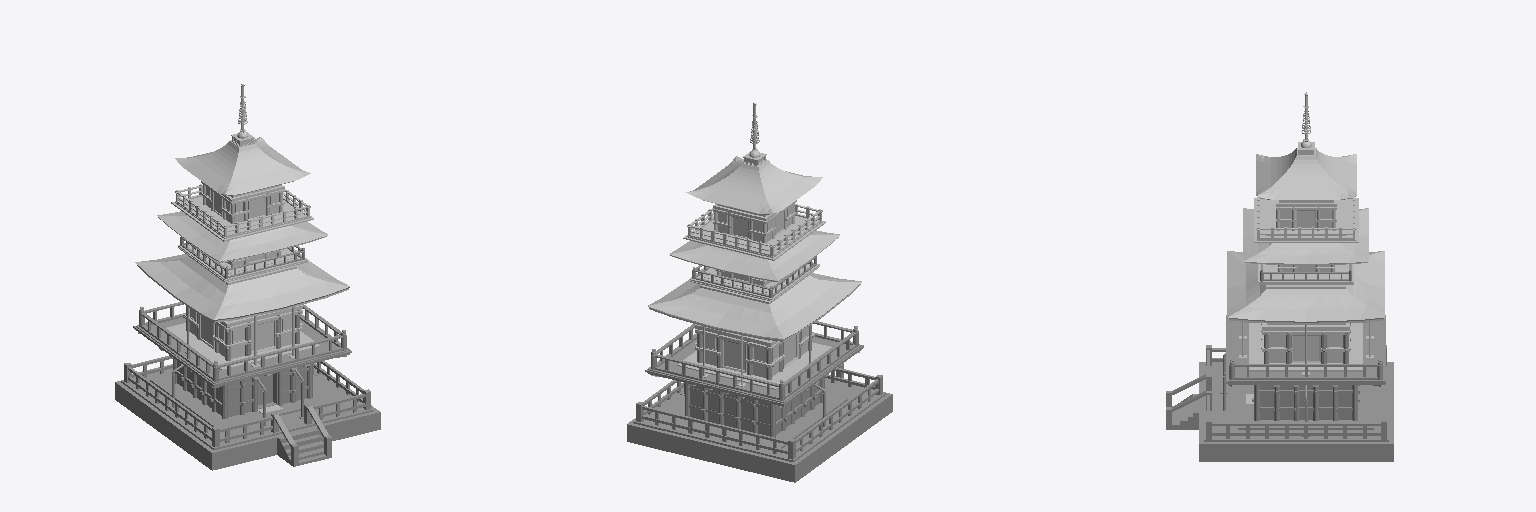
File: JapaneseTemple24.obj
3 renders of one model, left to right at view 1: azimuth 30°, elevation 25°; view 2: azimuth 150°, elevation 25°; view 3: azimuth 270°, elevation 25°, orthographic.
Parts seen in each view (by area): view 1: Japanese_Shrine_Cylinder.030; view 2: Japanese_Shrine_Cylinder.030; view 3: Japanese_Shrine_Cylinder.030.
Part boxes in pixels (left/top/right/bottom): Japanese_Shrine_Cylinder.030: left=115, top=84, right=380, bottom=470; Japanese_Shrine_Cylinder.030: left=627, top=103, right=892, bottom=482; Japanese_Shrine_Cylinder.030: left=1166, top=92, right=1393, bottom=461.
Bounding box in the file's own units: 480 × 898 × 562.